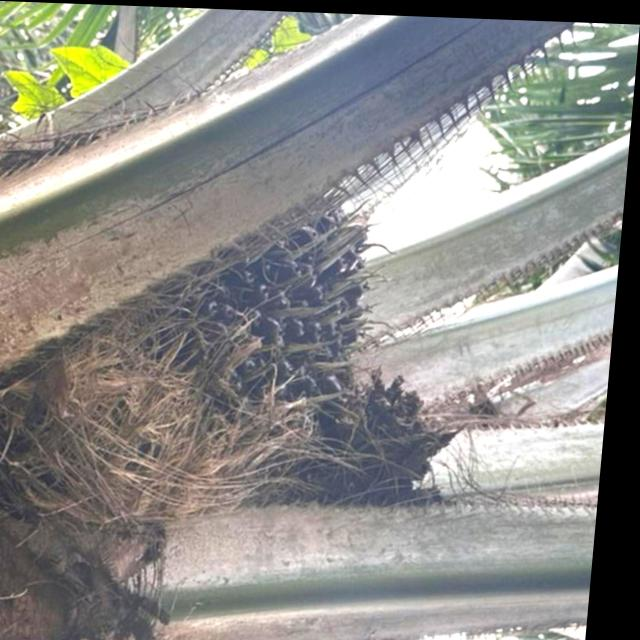almost: (99, 170, 418, 492)
